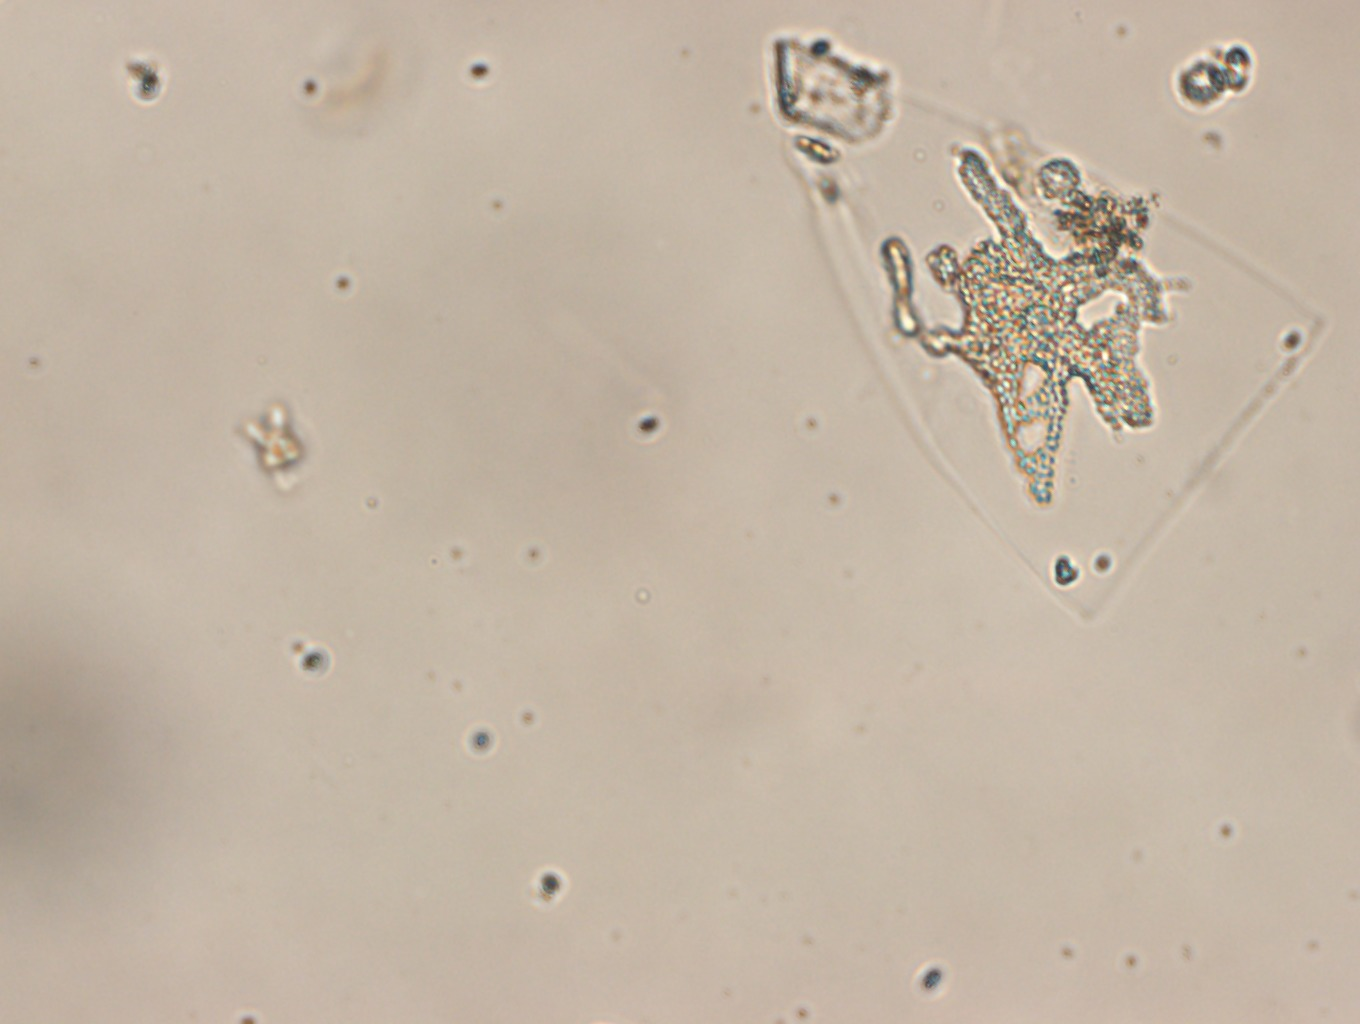helicotheca: (760, 25, 1326, 627)
